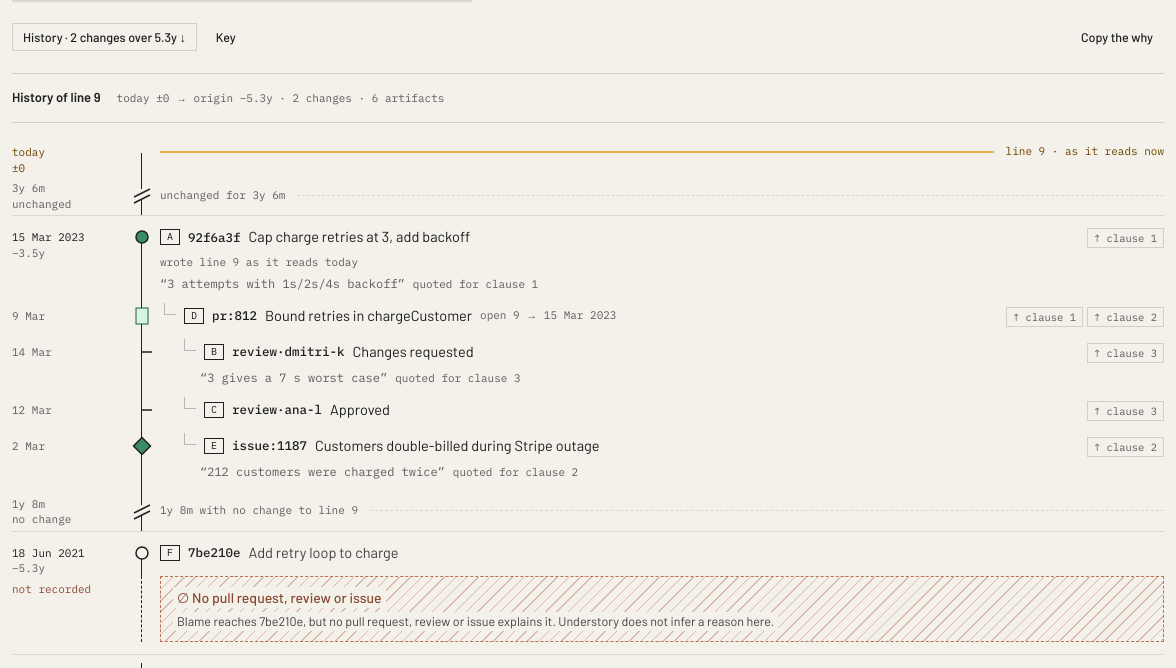
Test: LineInvestigation — evidence in place › goes back from a history row to the clause it supports, at that source
This screenshot has width=1176, height=668.
(page scrolled)
Click the button with aria-label "Back to clause 2 with pr:812 as its source" at (1126, 317), box [1087,307,1164,327]
(page scrolled)
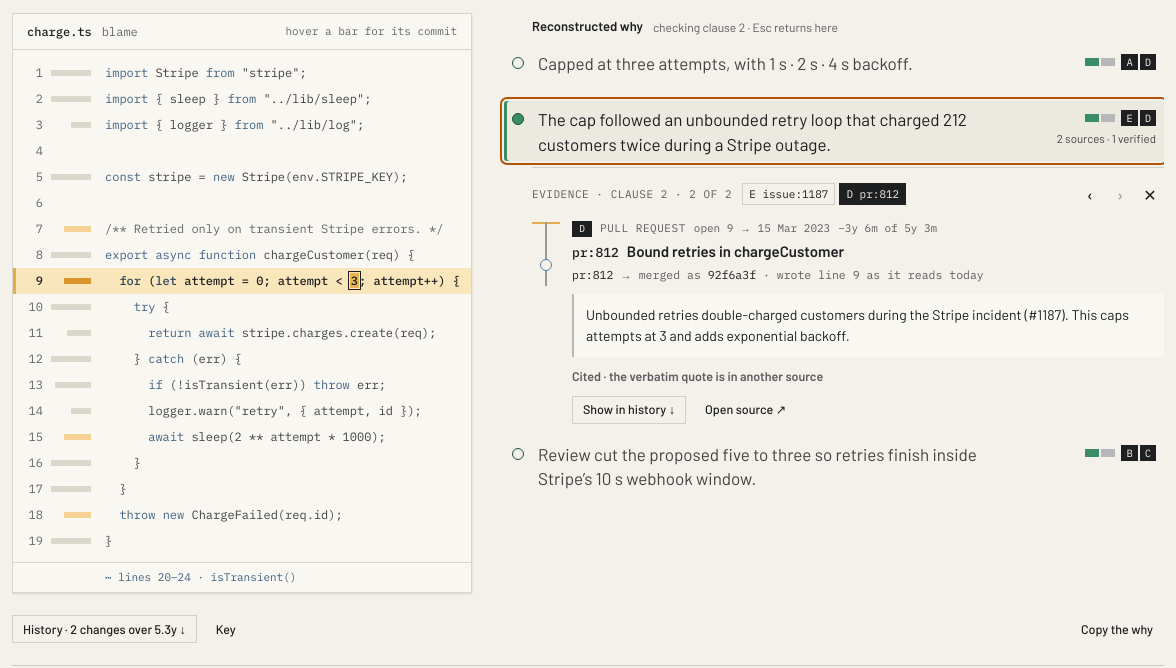
Expected: the element "EVIDENCE · CLAUSE" shows "Bound retries in chargeCustomer", [627,242,844,260]
